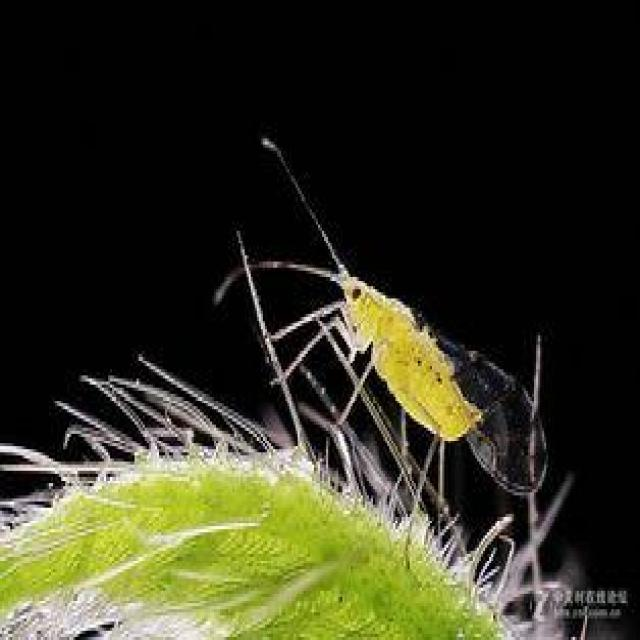Aphids: (205, 121, 582, 564)
